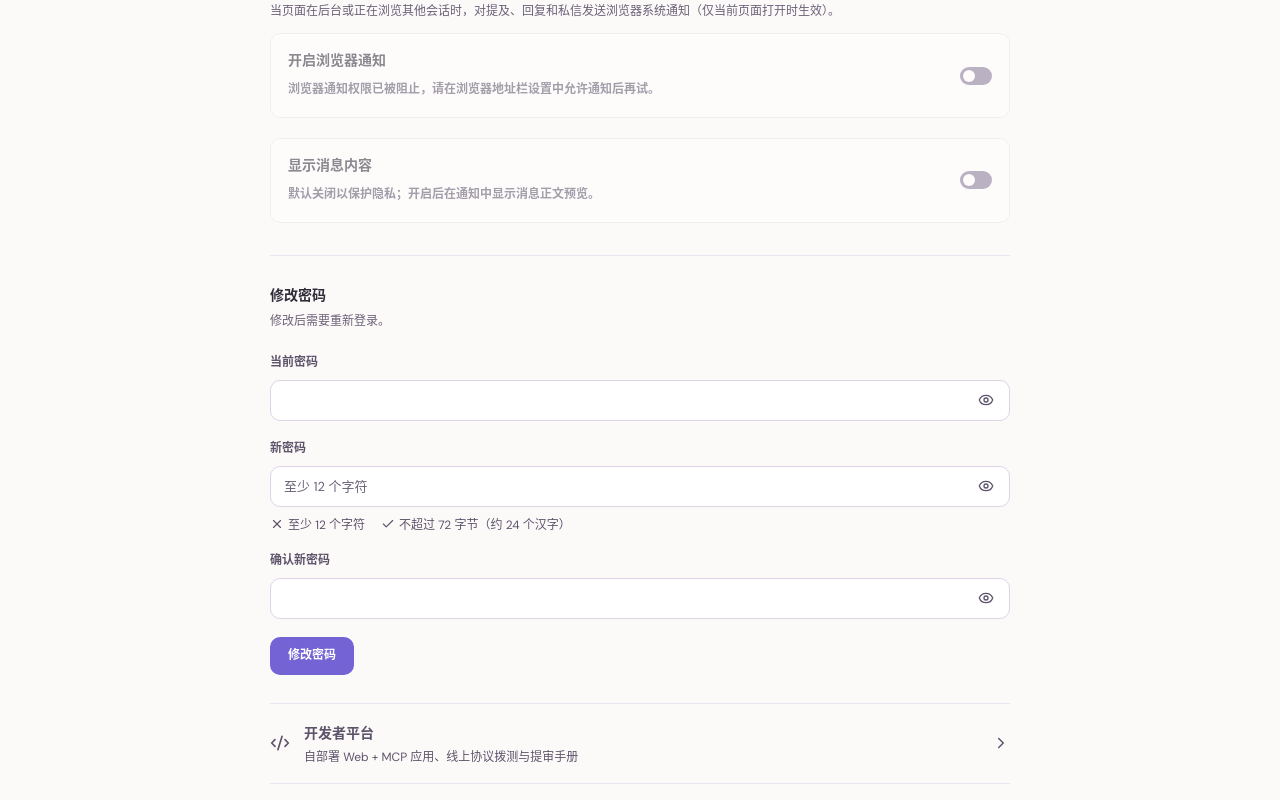
Test: account password settings › blocks invalid password changes locally: short
(page scrolled)
Type "example-old-password" into the password field named "currentPassword" at (640, 400), box top-left (270, 380), bottom-right (1010, 421)
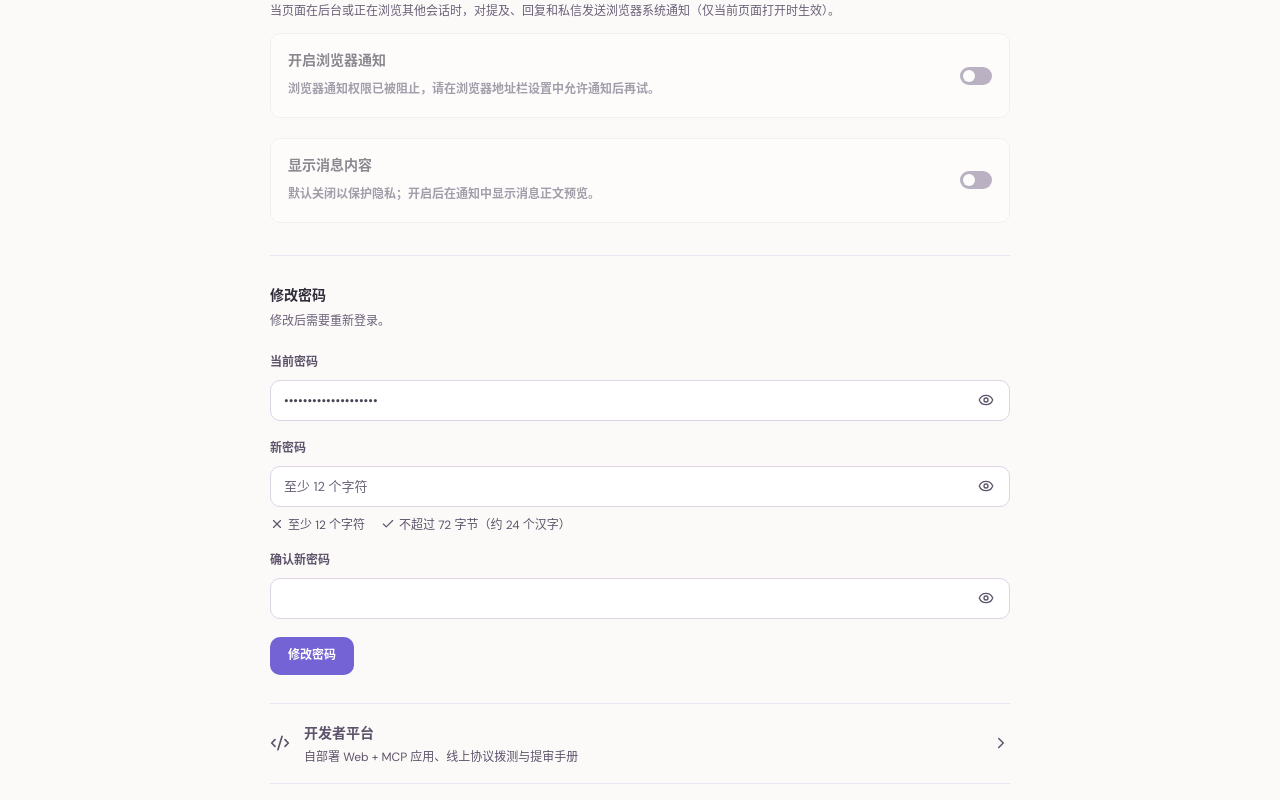
Type "short" into the password field named "newPassword" at (640, 486), box top-left (270, 466), bottom-right (1010, 507)
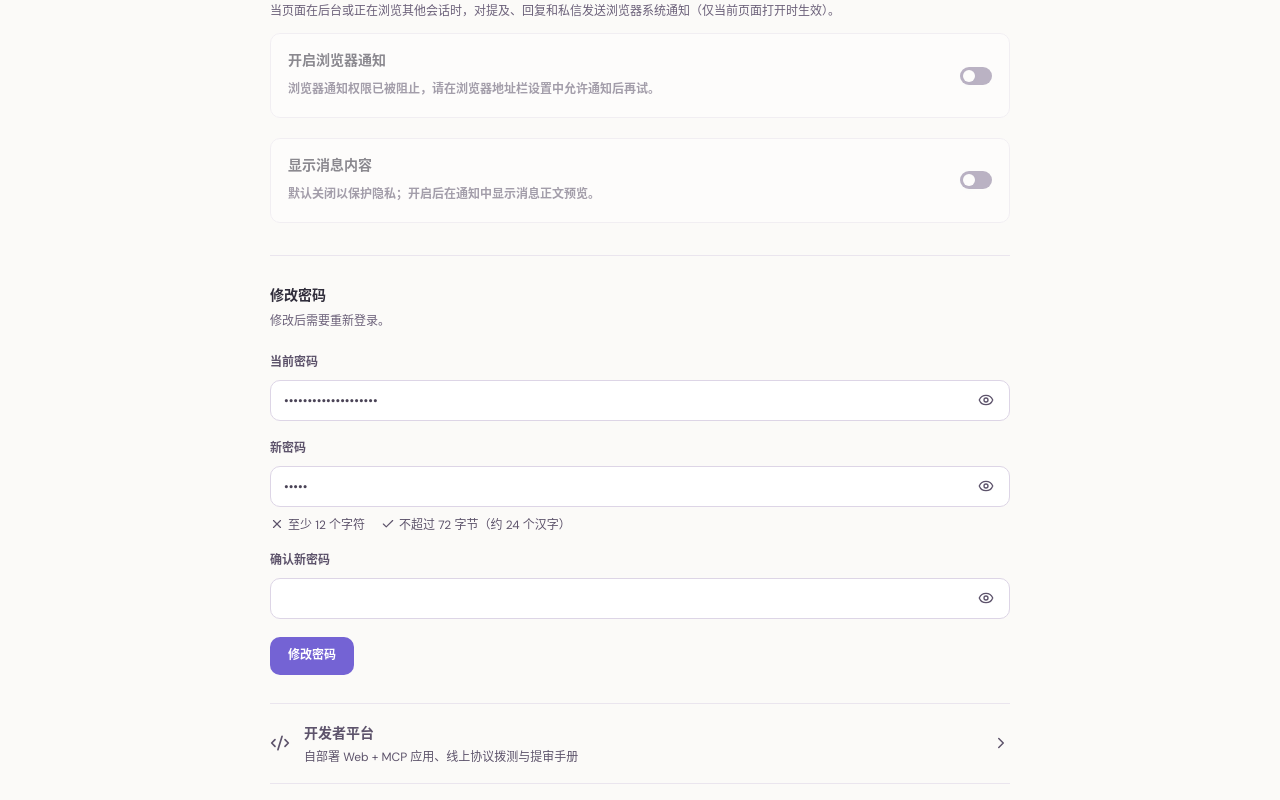
Type "short" into the password field named "confirmPassword" at (640, 598), box top-left (270, 578), bottom-right (1010, 619)
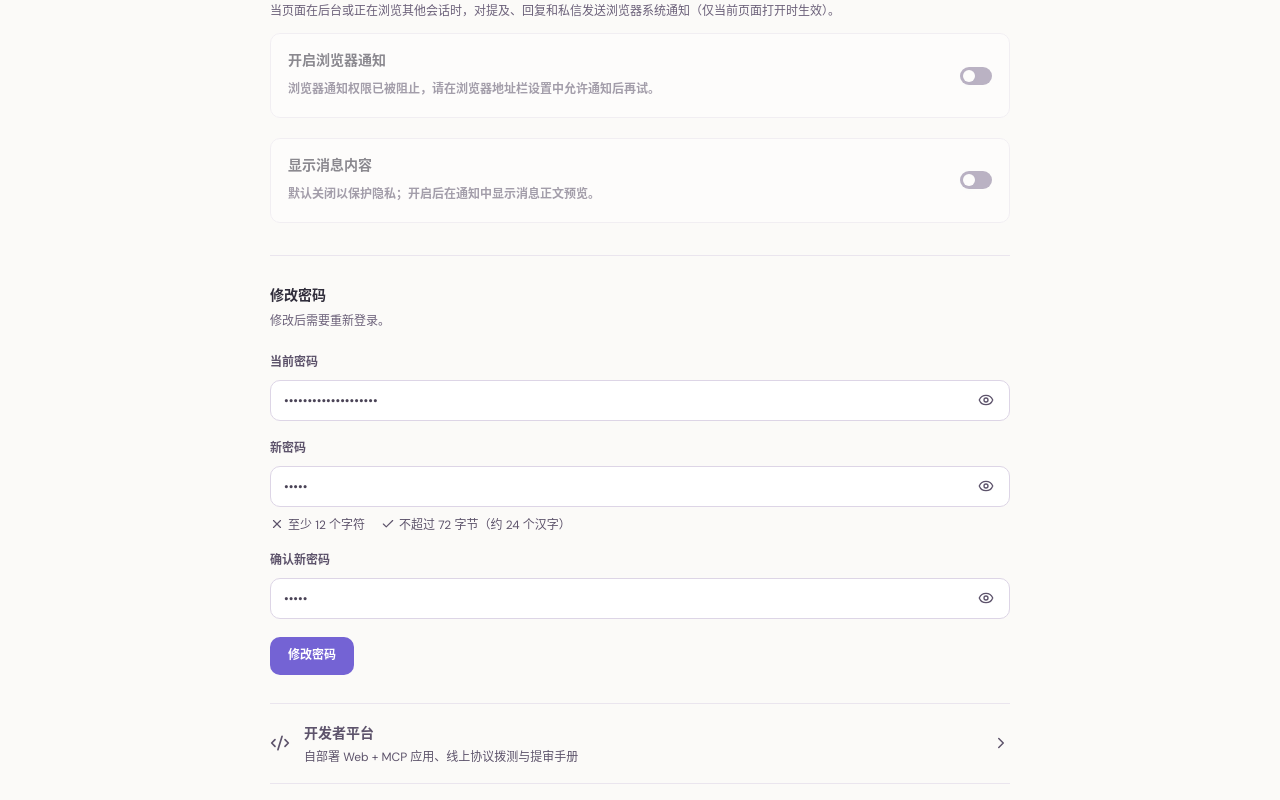
Submit the form, box top-left (270, 255), bottom-right (1010, 675)
(page scrolled)
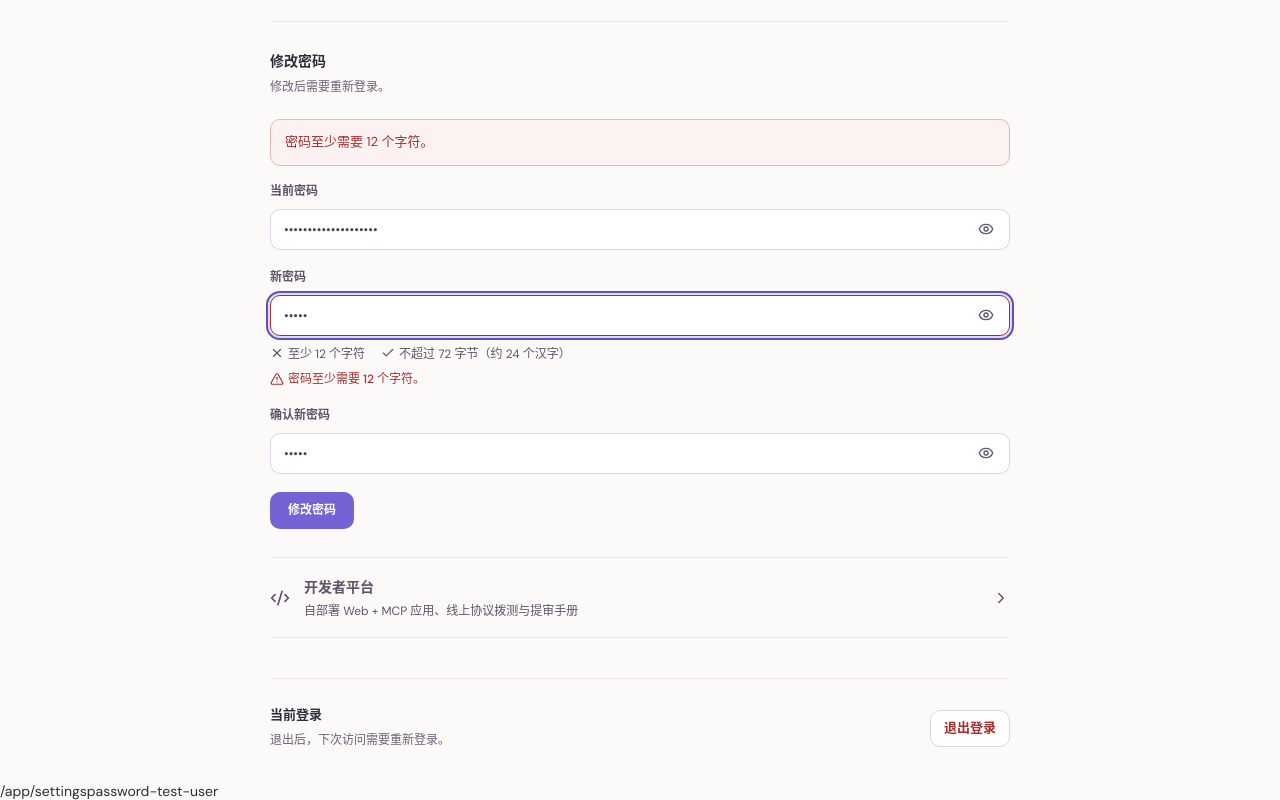
Check: the text "password-test-user" is shown, box top-left (87, 782), bottom-right (218, 799)
Check: the text "密码至少需要 12 个字符。" is shown, box top-left (270, 119), bottom-right (1010, 166)
